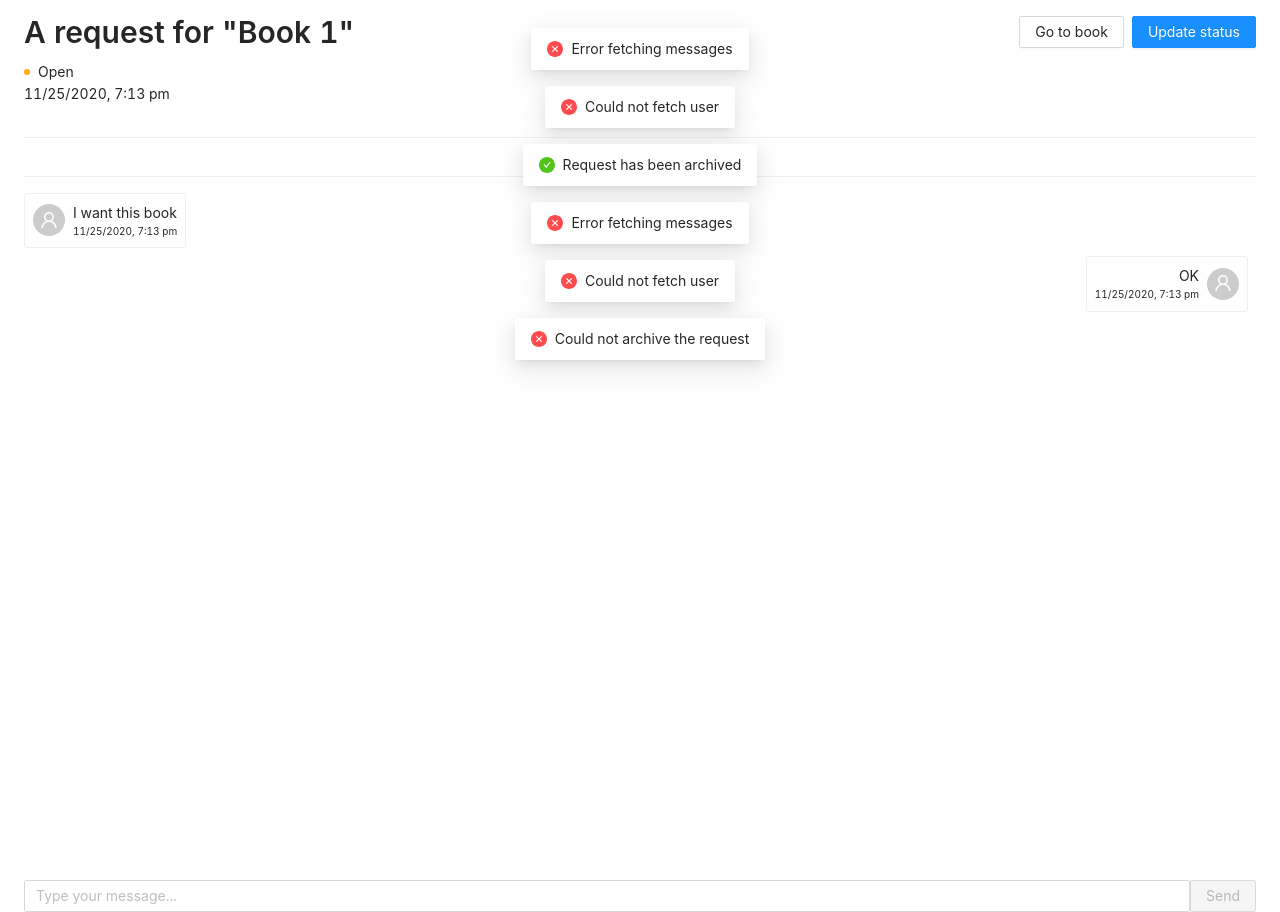
Test: Correctly carries out user actions › Provides error message when message could not be sent
The image size is (1280, 912).
In the field with placeholder "Type your message...": [607, 896] box left=24, top=880, right=1190, bottom=911, type "some message"
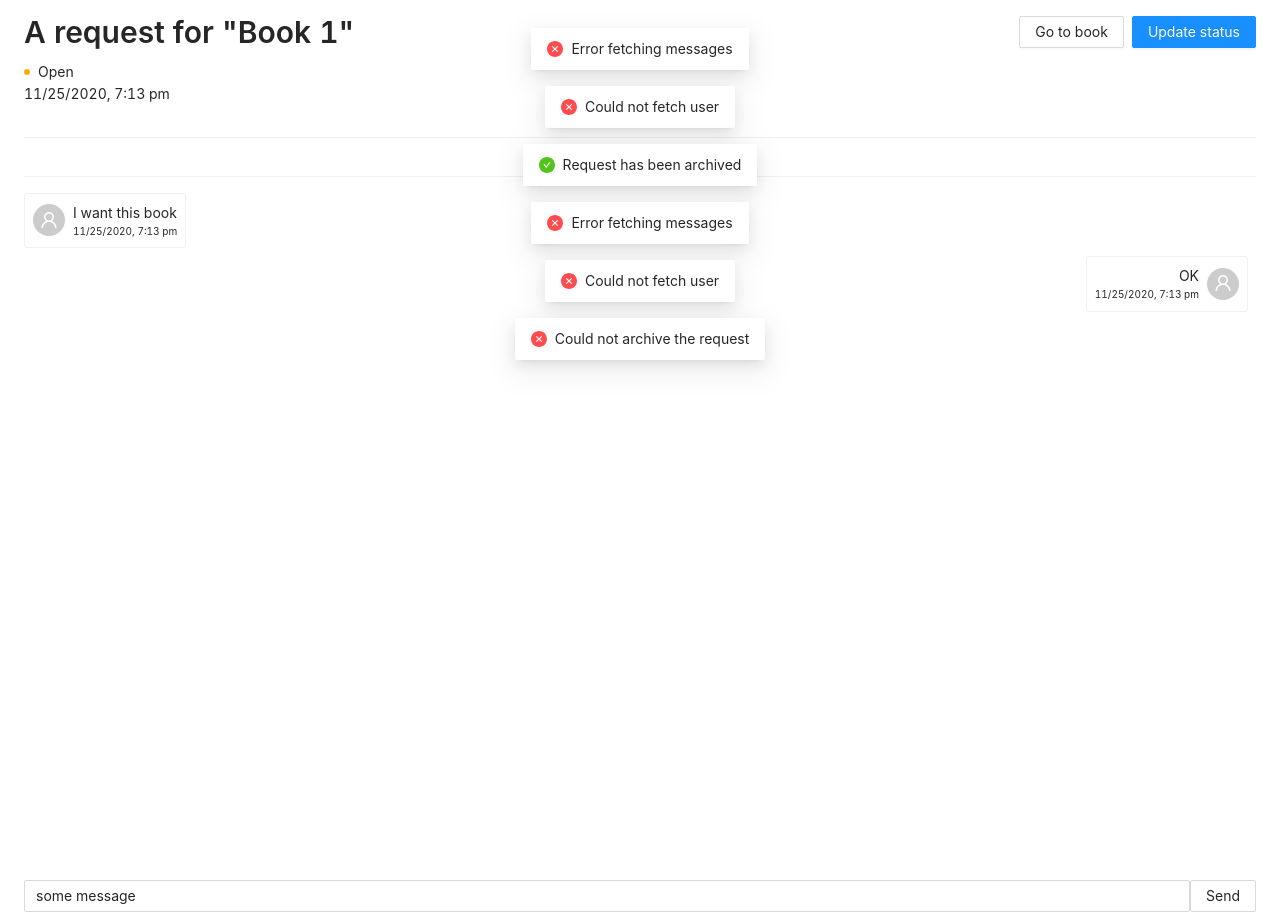
Click the button "Send": [1223, 896] box left=1190, top=880, right=1256, bottom=911
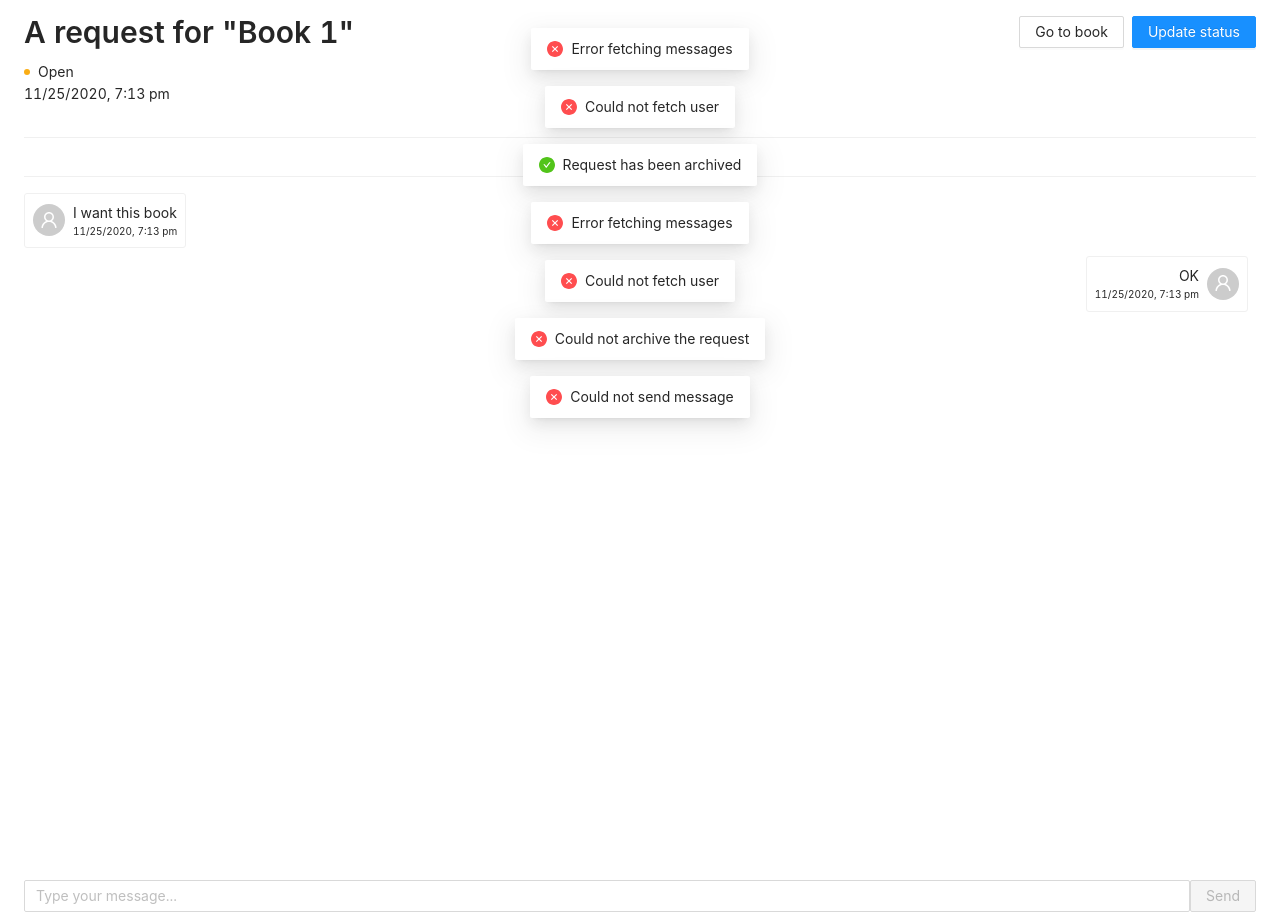
Now the text "Could not send message" is shown, box left=570, top=388, right=734, bottom=405
